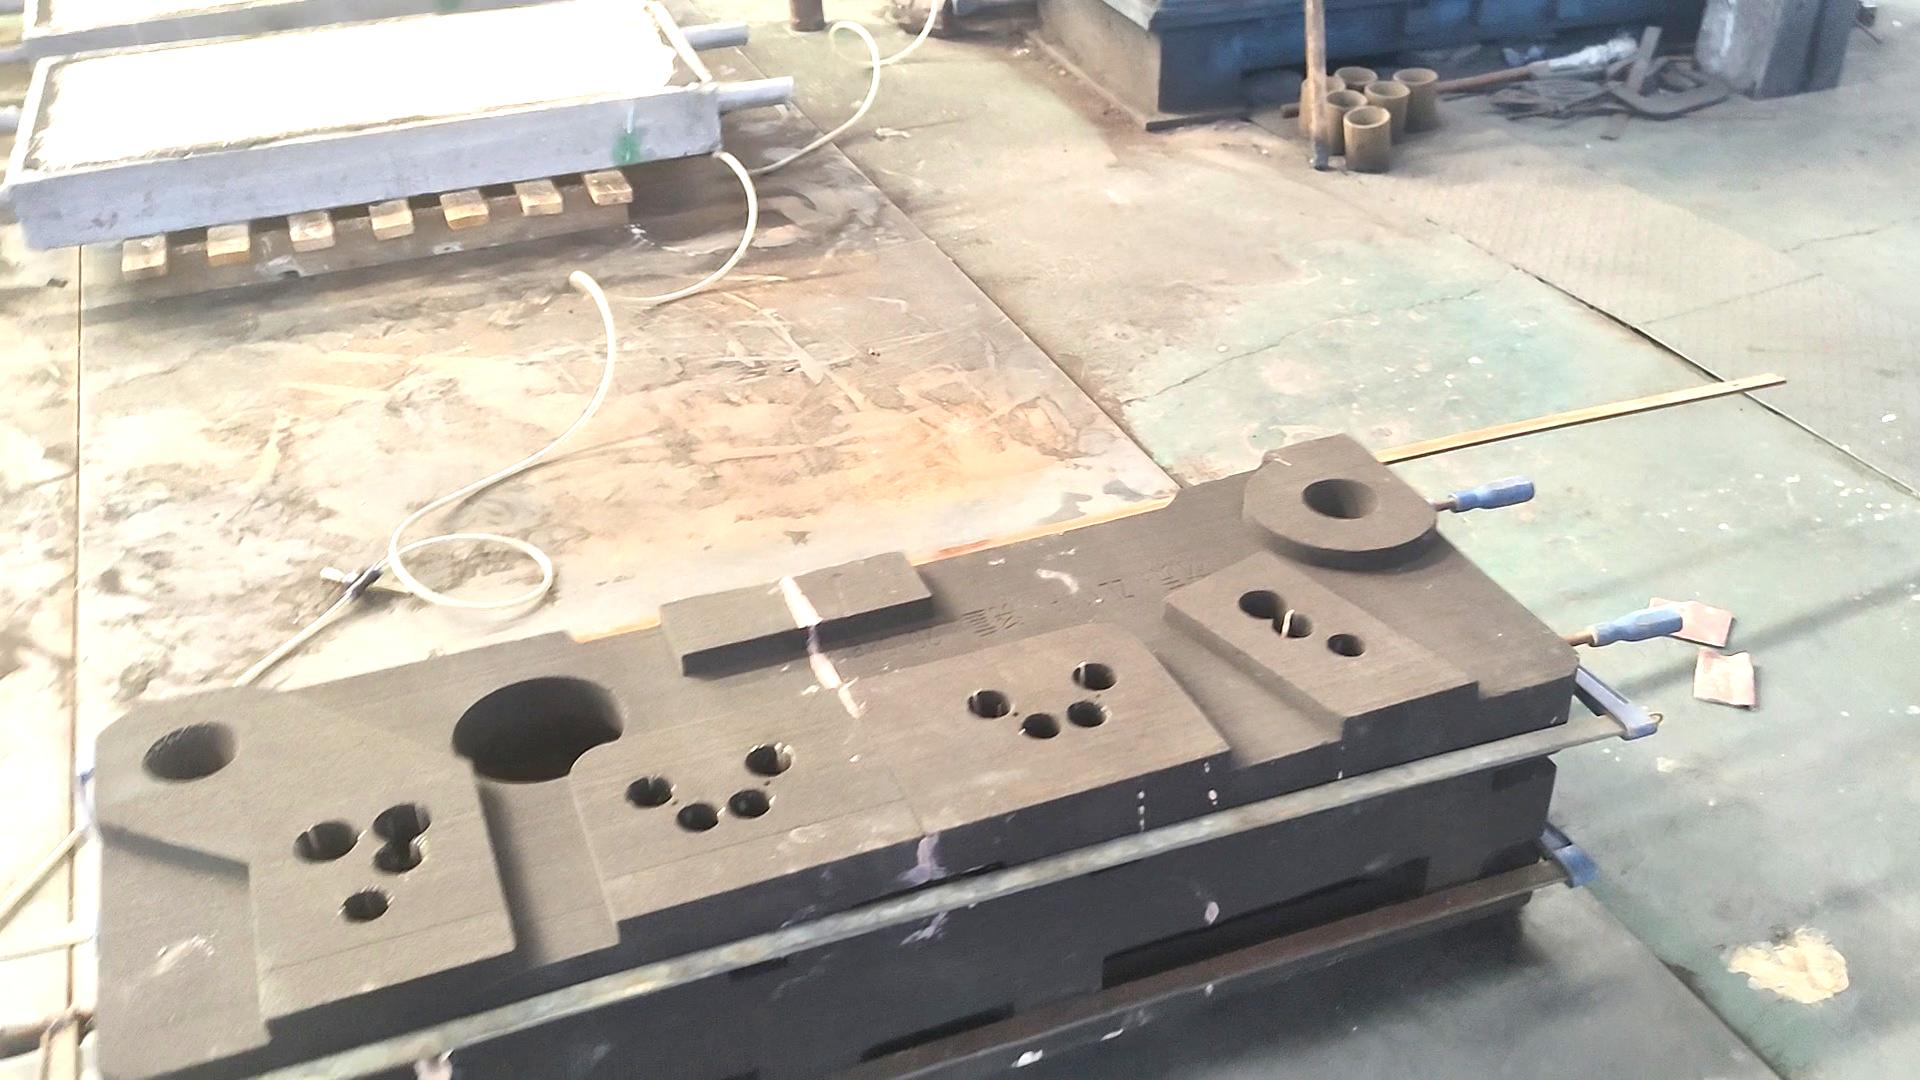pouring hole: (138, 720, 240, 786), (1300, 477, 1379, 521), (1338, 105, 1390, 129), (1325, 88, 1366, 109), (1394, 66, 1437, 86), (1335, 65, 1375, 84), (1302, 74, 1344, 92)
